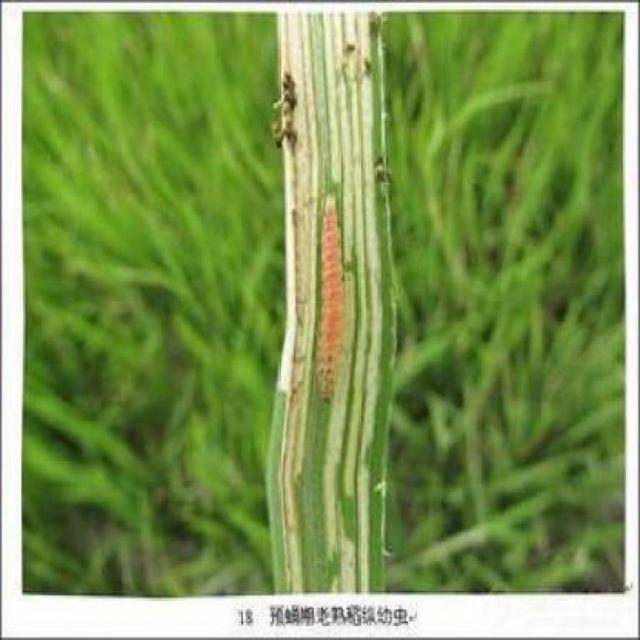leaf-folder: (308, 175, 352, 411)
